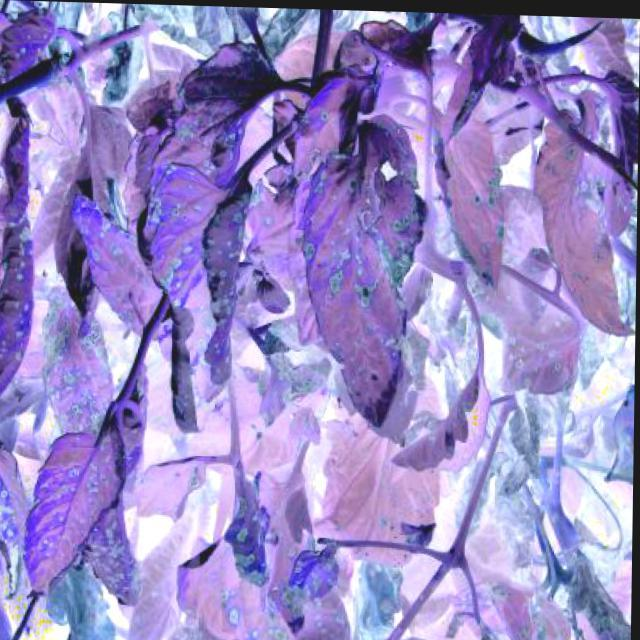Tomato Septoria spot leaf: (302, 104, 434, 438), (124, 24, 284, 232), (150, 156, 257, 392), (12, 417, 132, 610), (426, 101, 522, 298), (71, 192, 175, 362), (174, 478, 271, 639)
